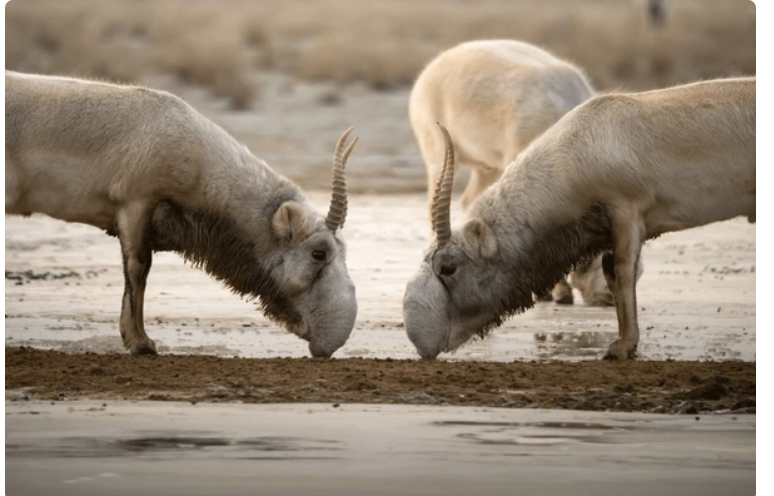saiga: (6, 56, 362, 360), (423, 85, 727, 366)
